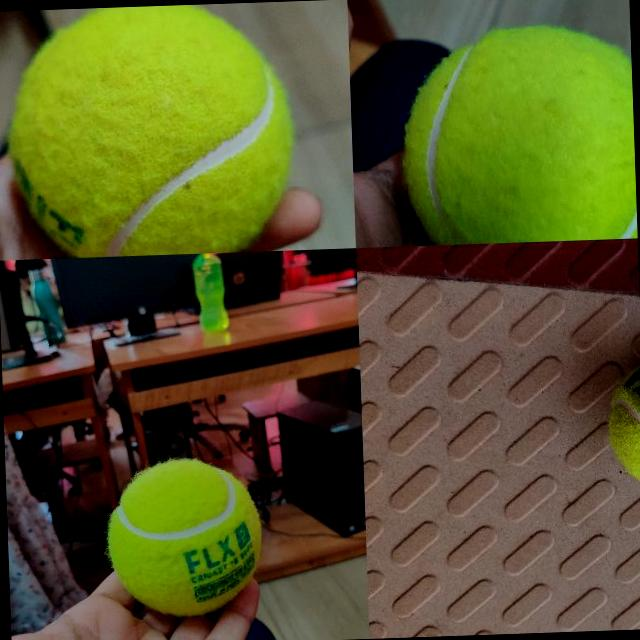tennis-ball: (8, 1, 296, 259), (399, 21, 636, 245), (105, 456, 263, 618), (605, 354, 640, 494)
